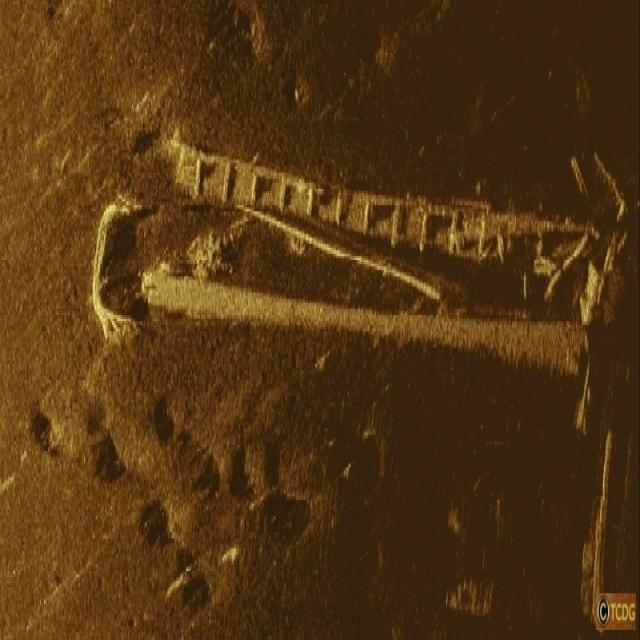ship: (90, 134, 624, 431)
